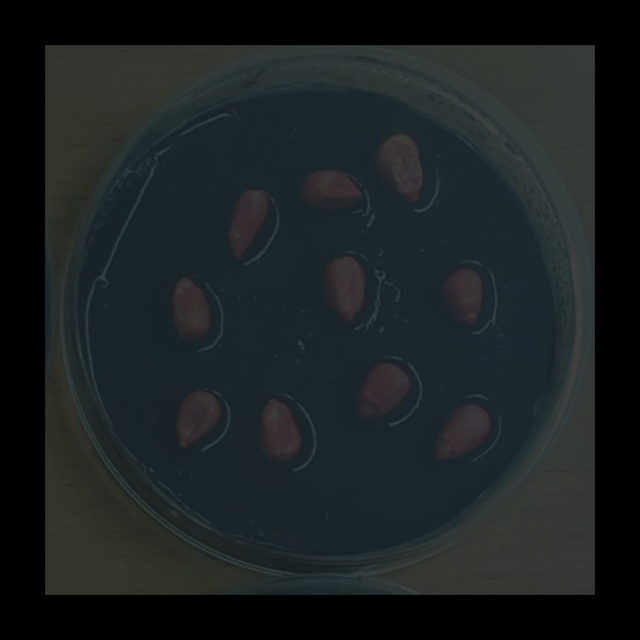Zea mays: (367, 127, 428, 211), (429, 397, 497, 468), (222, 185, 280, 266), (316, 248, 372, 331), (350, 355, 416, 425), (290, 162, 369, 219), (253, 391, 307, 471), (166, 271, 216, 349), (171, 385, 225, 457), (434, 261, 488, 332)
